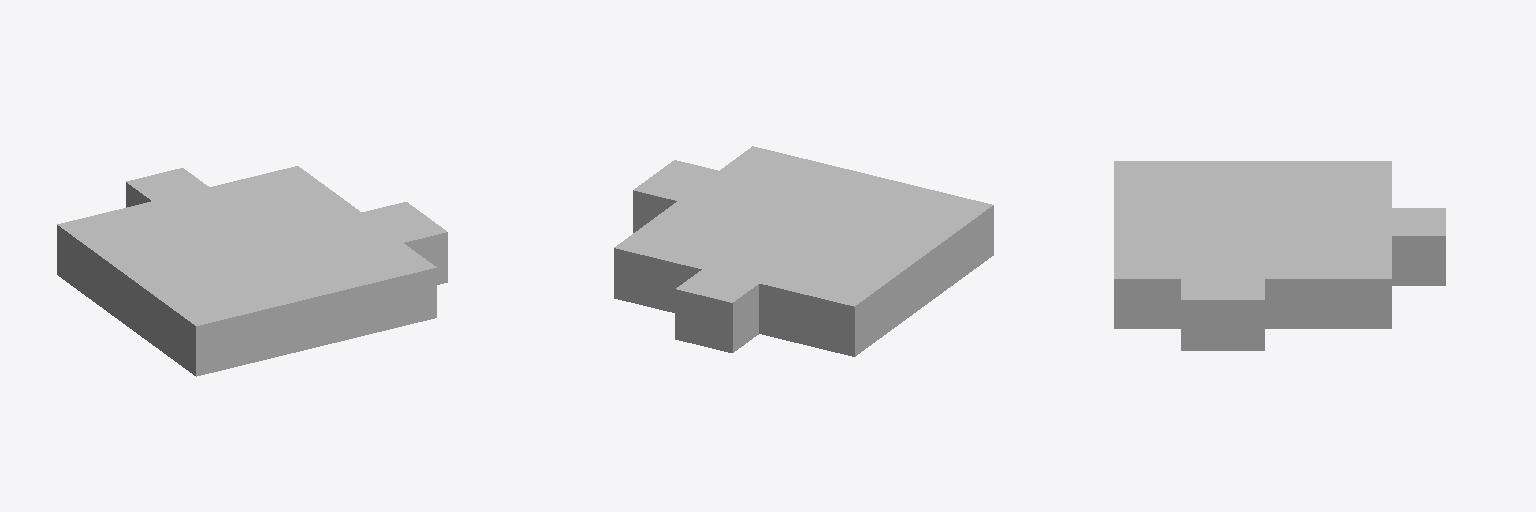
Rendered from demo_level.obj.
3 renders of one model, left to right at view 1: azimuth 30°, elevation 25°; view 2: azimuth 150°, elevation 25°; view 3: azimuth 270°, elevation 25°, orthographic.
Parts seen in each view (by area): view 1: Cube; view 2: Cube; view 3: Cube.
Part boxes in pixels (x1,y1,x2,y2): Cube: (57, 166, 447, 376); Cube: (614, 146, 993, 356); Cube: (1114, 161, 1445, 350).
Size of the model in its own units: 23.71 by 4 by 23.85.